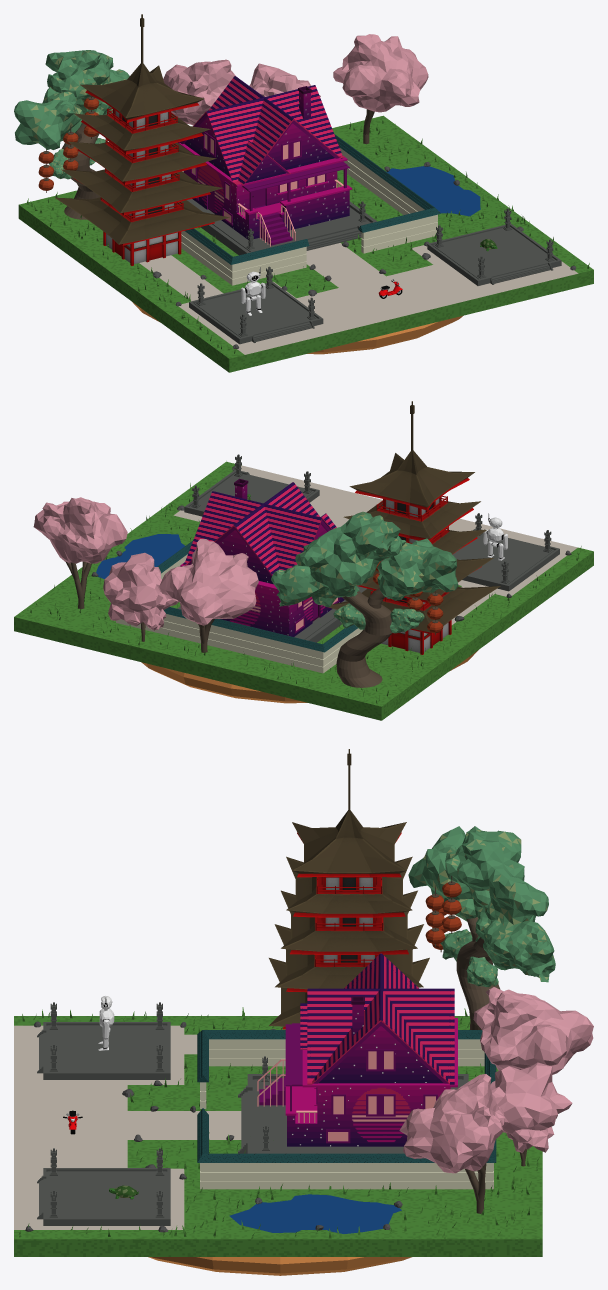
The picture shows the model from 3 angles, top to bottom: view 1: azimuth 30°, elevation 25°; view 2: azimuth 150°, elevation 25°; view 3: azimuth 270°, elevation 25°; orthographic projection. The views are drawn at different scales.
Parts seen in each view (by area): view 1: Cube.005, Cube.156, UNDERGROUND_PIZZA, OBJRANDOM_PLATZEEBOT; view 2: Cube.005, Cube.156, UNDERGROUND_PIZZA, OBJRANDOM_PLATZEEBOT; view 3: Cube.005, Cube.156, UNDERGROUND_PIZZA.
Boxes of the visible parts, left/top/right/bottom form: Cube.005: left=14, top=14, right=593, bottom=372; Cube.156: left=177, top=76, right=352, bottom=246; UNDERGROUND_PIZZA: left=132, top=302, right=463, bottom=354; OBJRANDOM_PLATZEEBOT: left=241, top=267, right=265, bottom=315; Cube.005: left=14, top=401, right=593, bottom=720; Cube.156: left=180, top=478, right=344, bottom=636; UNDERGROUND_PIZZA: left=141, top=650, right=478, bottom=703; OBJRANDOM_PLATZEEBOT: left=483, top=513, right=507, bottom=560; Cube.005: left=14, top=749, right=593, bottom=1256; Cube.156: left=257, top=953, right=457, bottom=1146; UNDERGROUND_PIZZA: left=148, top=1257, right=411, bottom=1275.
Size of the model in its own units: 4528 by 2902 by 4389.
45 materials, 7 textured.
